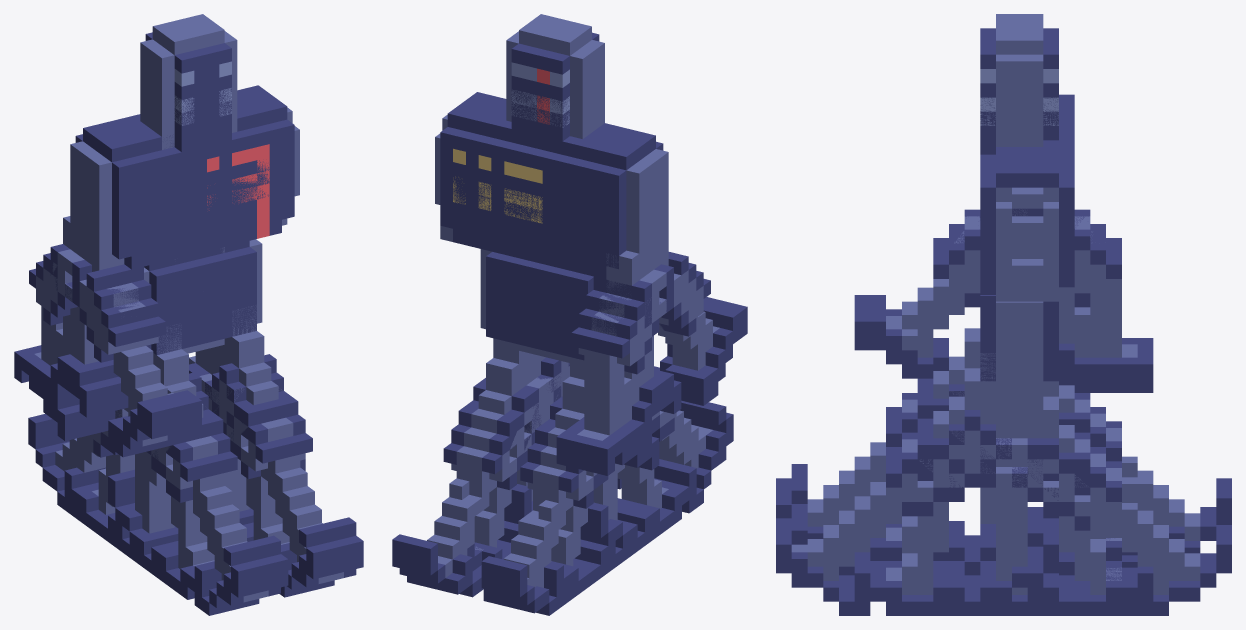
File: walk1arm.fbx
The picture shows the model from 3 angles, left to right: view 1: azimuth 30°, elevation 25°; view 2: azimuth 150°, elevation 25°; view 3: azimuth 270°, elevation 25°; orthographic projection. The views are drawn at different scales.
Parts seen in each view (by area): view 1: Default_2, Default_4, Default, Default_6, Default_5, Default_8; view 2: Default_4, Default_2, Default, Default_6, Default_5, Default_8; view 3: Default_2, Default, Default_4, Default_6, Default_5, Default_8.
Boxes of the visible parts, box(x1,y1,x2,y2) form: Default_2: box(28, 84, 363, 597); Default_4: box(50, 14, 299, 573); Default: box(64, 66, 299, 563); Default_6: box(14, 171, 294, 615); Default_5: box(29, 152, 294, 599); Default_8: box(70, 141, 239, 567); Default_4: box(435, 14, 681, 577); Default_2: box(435, 82, 747, 615); Default: box(435, 67, 735, 599); Default_6: box(392, 224, 733, 597); Default_5: box(466, 194, 696, 570); Default_8: box(481, 137, 668, 550); Default_2: box(776, 104, 1231, 615); Default: box(854, 83, 1137, 615); Default_4: box(933, 14, 1074, 615); Default_6: box(776, 210, 1231, 615); Default_5: box(870, 209, 1153, 615); Default_8: box(933, 328, 1058, 615).
Bounding box in the file's own units: 17 × 39 × 29.
Materials: 8 (8 with a texture image).
